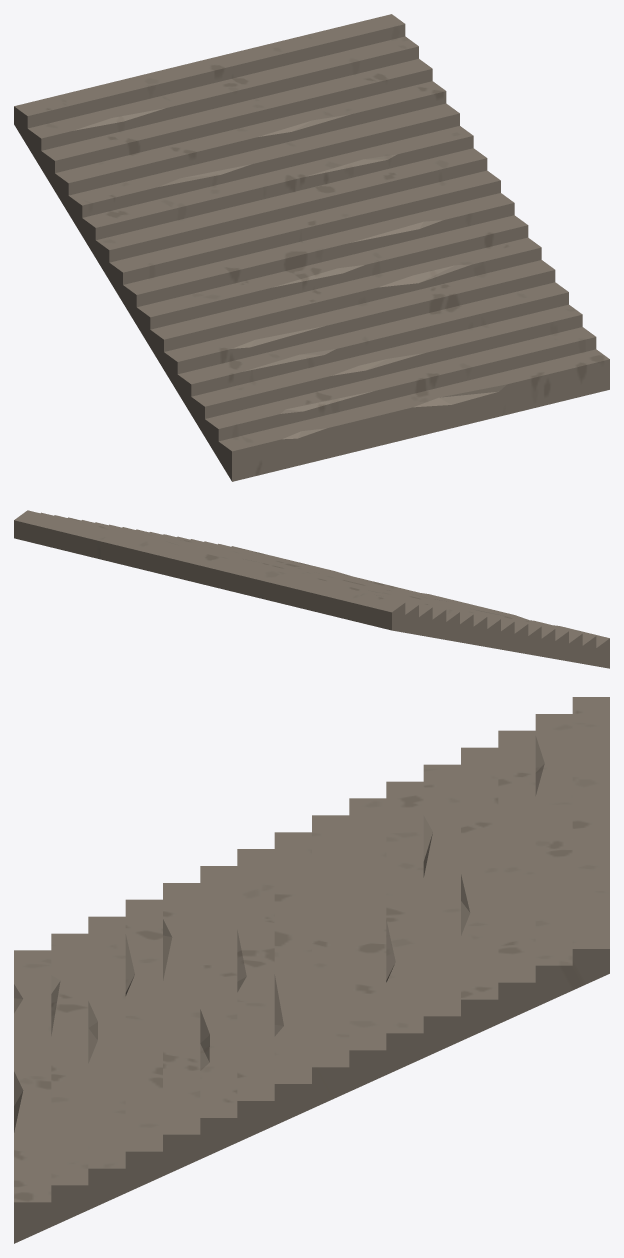
Rendered from stairs.glb.
The picture shows the model from 3 angles, top to bottom: view 1: azimuth 30°, elevation 25°; view 2: azimuth 150°, elevation 25°; view 3: azimuth 270°, elevation 25°; orthographic projection. The views are drawn at different scales.
Visible parts, largest first — view 1: SM_Env_Dwarf_Stairs_01; view 2: SM_Env_Dwarf_Stairs_01; view 3: SM_Env_Dwarf_Stairs_01.
Part boxes in pixels (bbox=[...]): SM_Env_Dwarf_Stairs_01: bbox=[14, 14, 609, 481]; SM_Env_Dwarf_Stairs_01: bbox=[14, 510, 609, 668]; SM_Env_Dwarf_Stairs_01: bbox=[14, 697, 609, 1243].
Bounding box in the file's own units: 5 × 2.73 × 5.
Materials: 1 (1 with a texture image).
